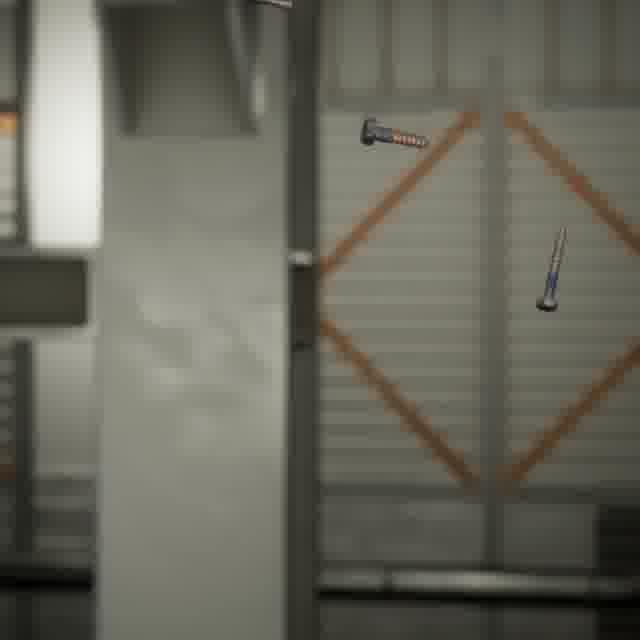bolt: (531, 219, 571, 316), (356, 113, 433, 153)
